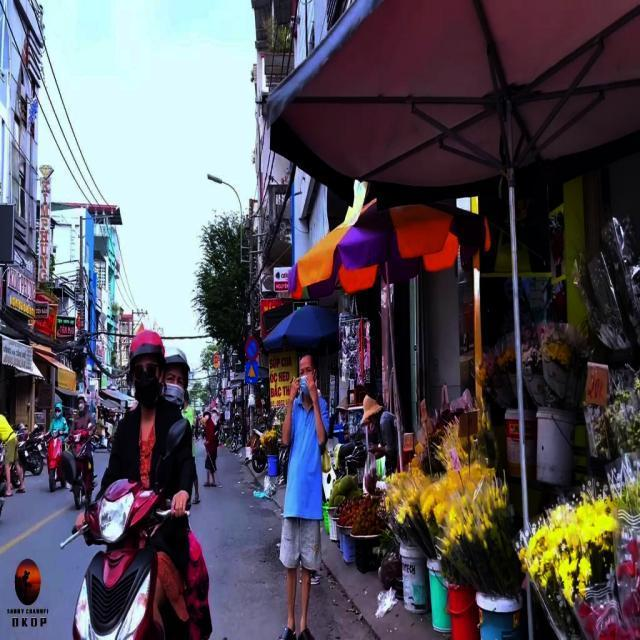106-cam-oto-tai: (94, 388, 98, 404)
131a-cam-do-xe: (244, 336, 260, 359)
442-cho: (246, 362, 258, 384)
